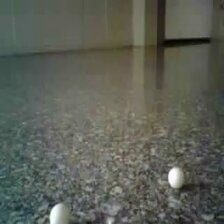w: (49, 203, 69, 224), (168, 167, 184, 188)
